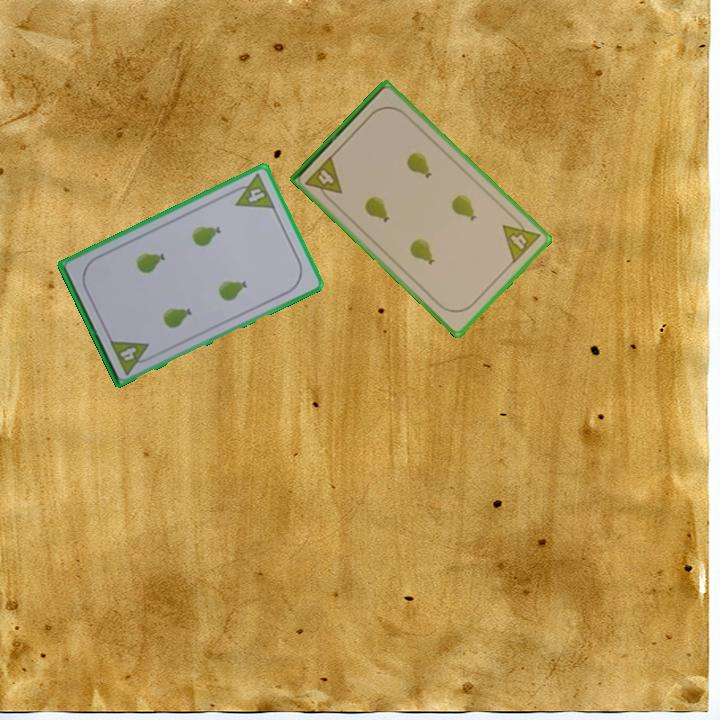4p: (499, 212, 543, 266), (302, 152, 345, 205), (226, 170, 278, 212), (106, 336, 156, 378)
